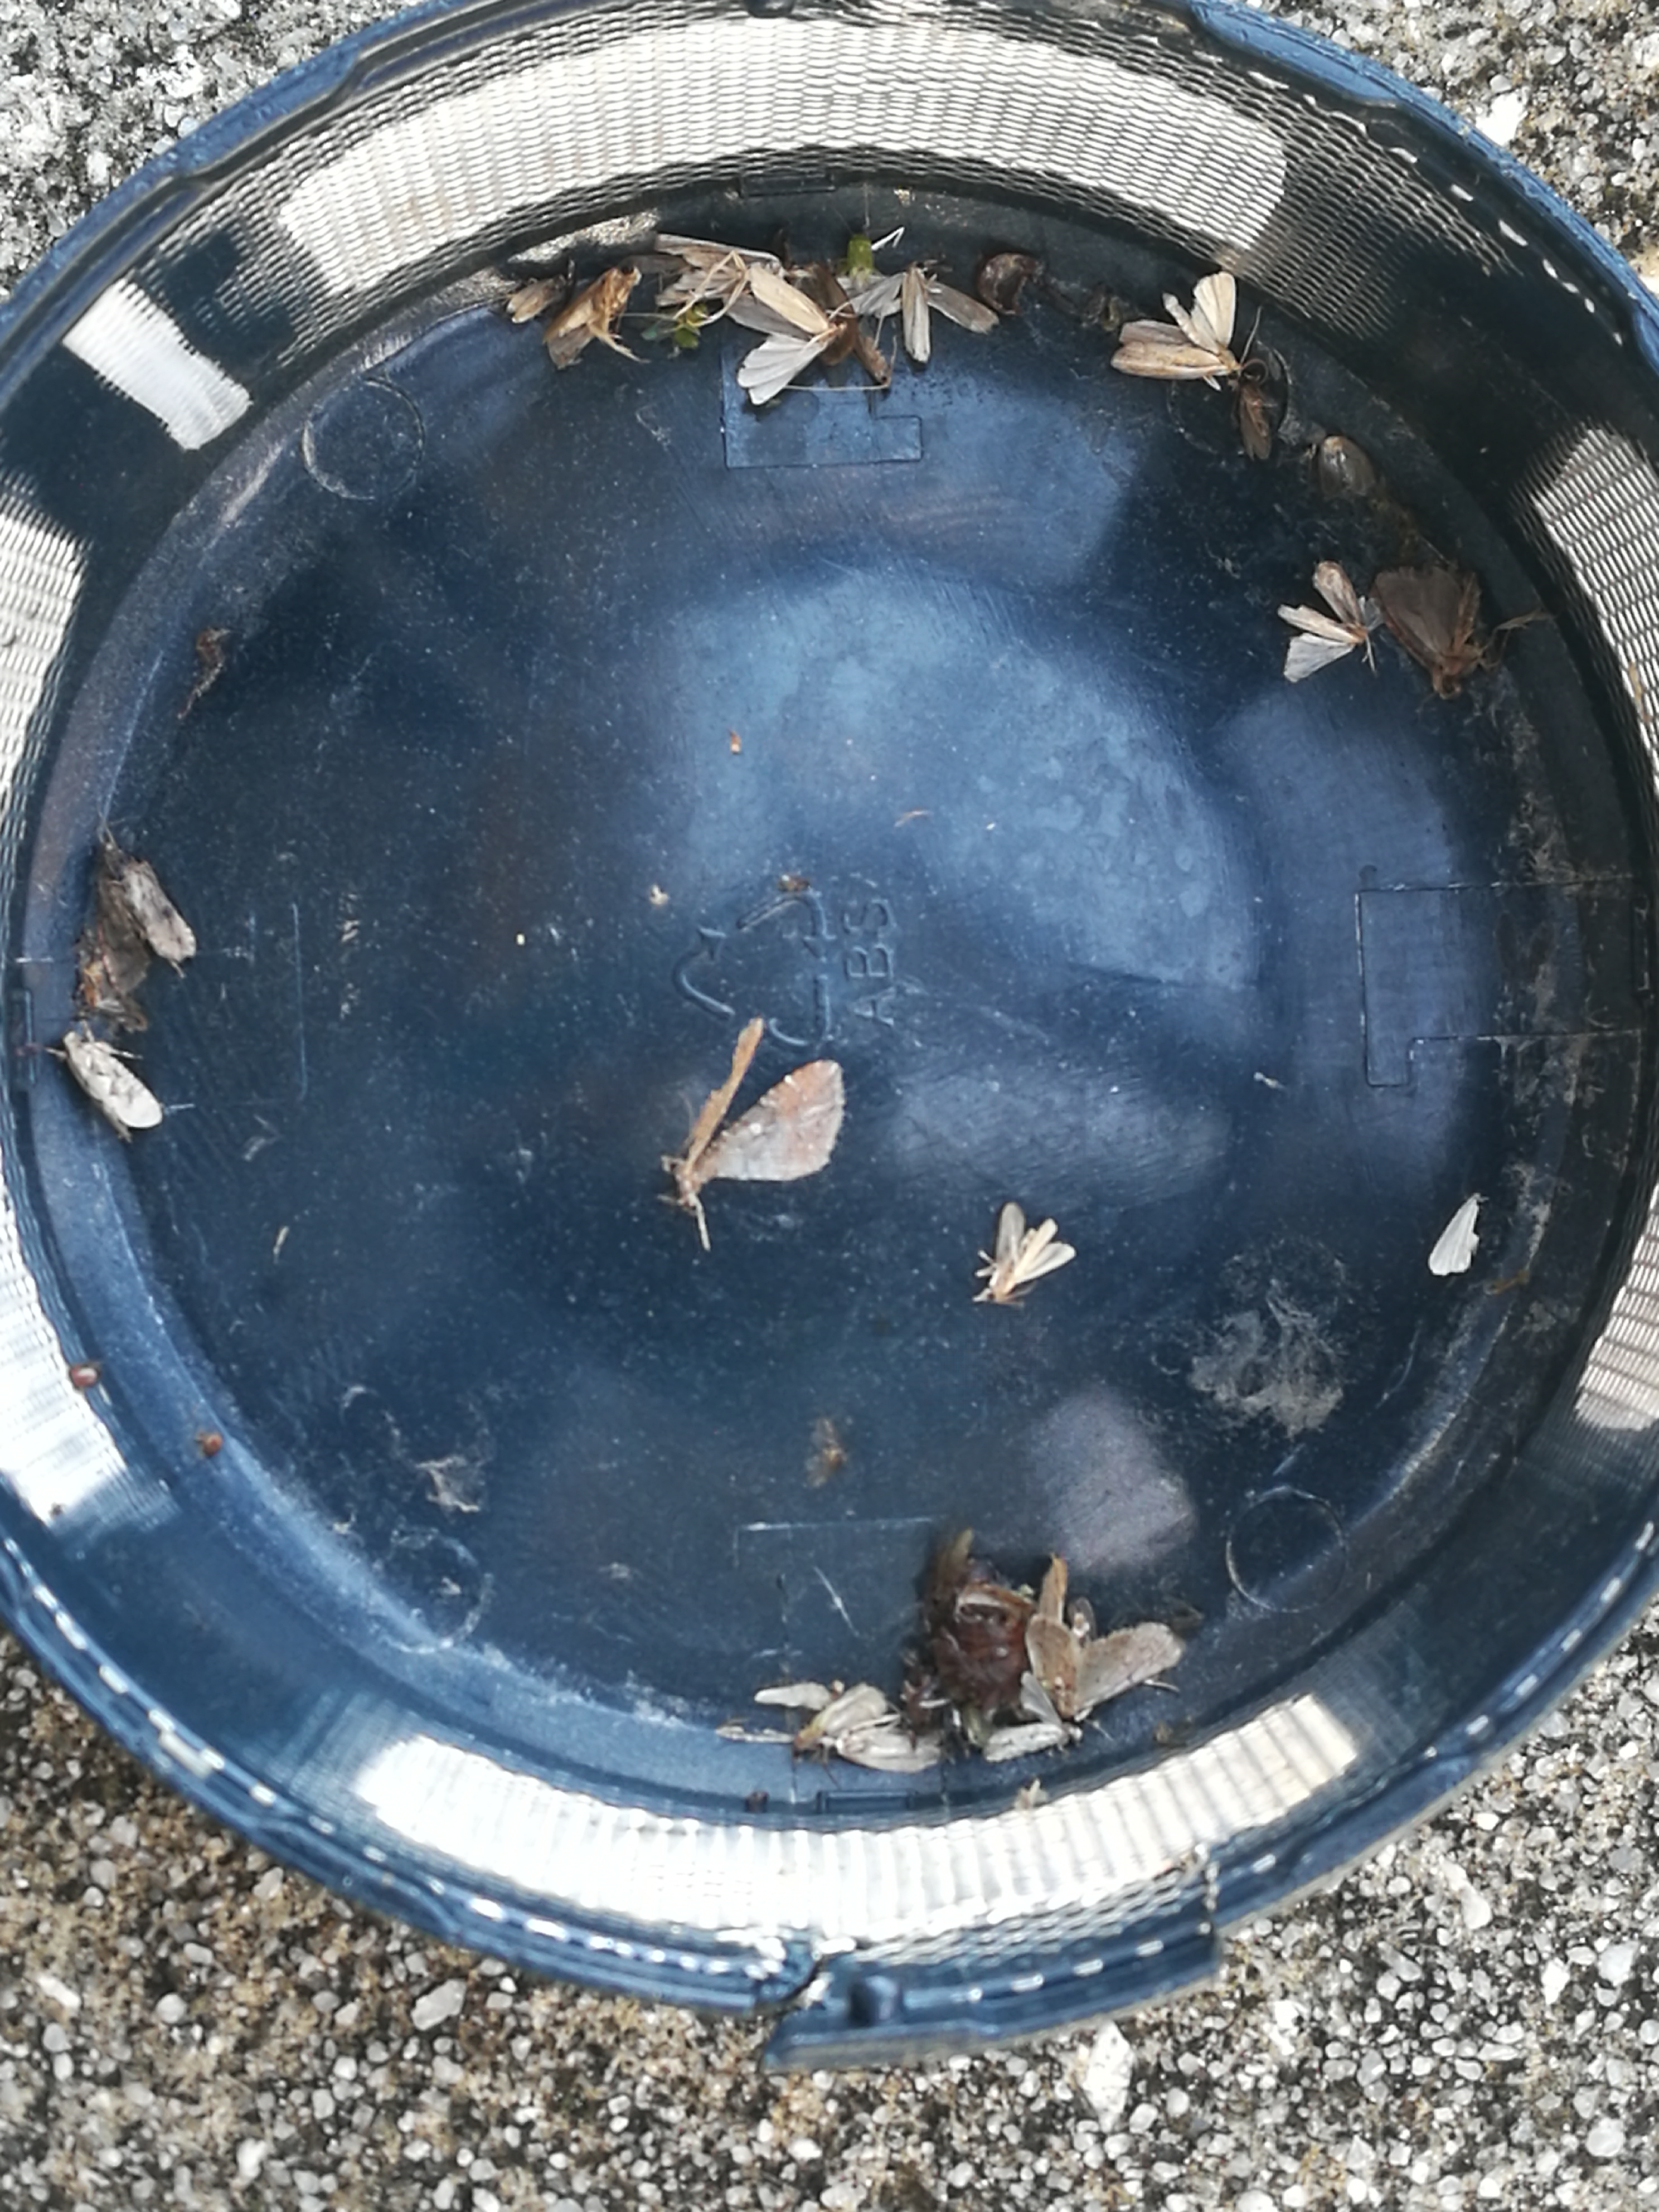beetle: (931, 1585, 1026, 1709)
mosquito: (505, 273, 568, 322), (1239, 383, 1272, 460), (856, 331, 890, 388)
moth: (673, 1021, 845, 1214), (723, 263, 842, 406), (1025, 1616, 1180, 1717), (857, 260, 999, 361), (98, 845, 193, 993), (1112, 272, 1241, 380), (1277, 561, 1382, 681), (1373, 571, 1481, 676), (544, 265, 643, 369), (974, 1204, 1075, 1303), (66, 1033, 160, 1139), (655, 235, 781, 308), (983, 1670, 1082, 1763), (793, 1683, 887, 1752), (819, 1724, 941, 1771)
